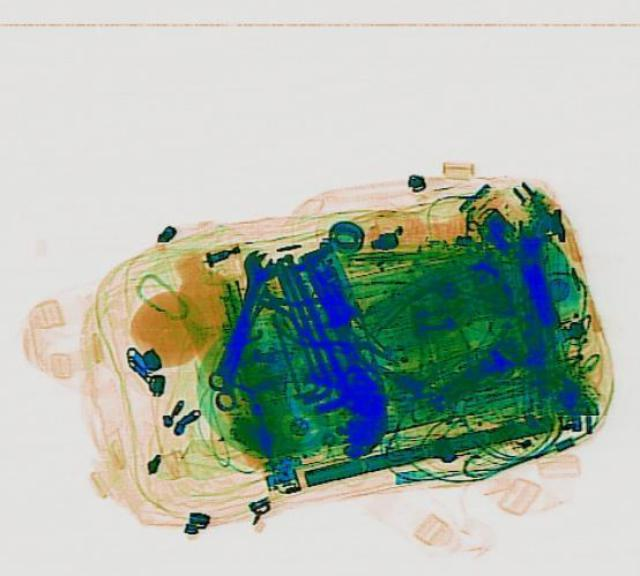Wrench: (195, 245, 278, 391), (206, 246, 280, 408)
